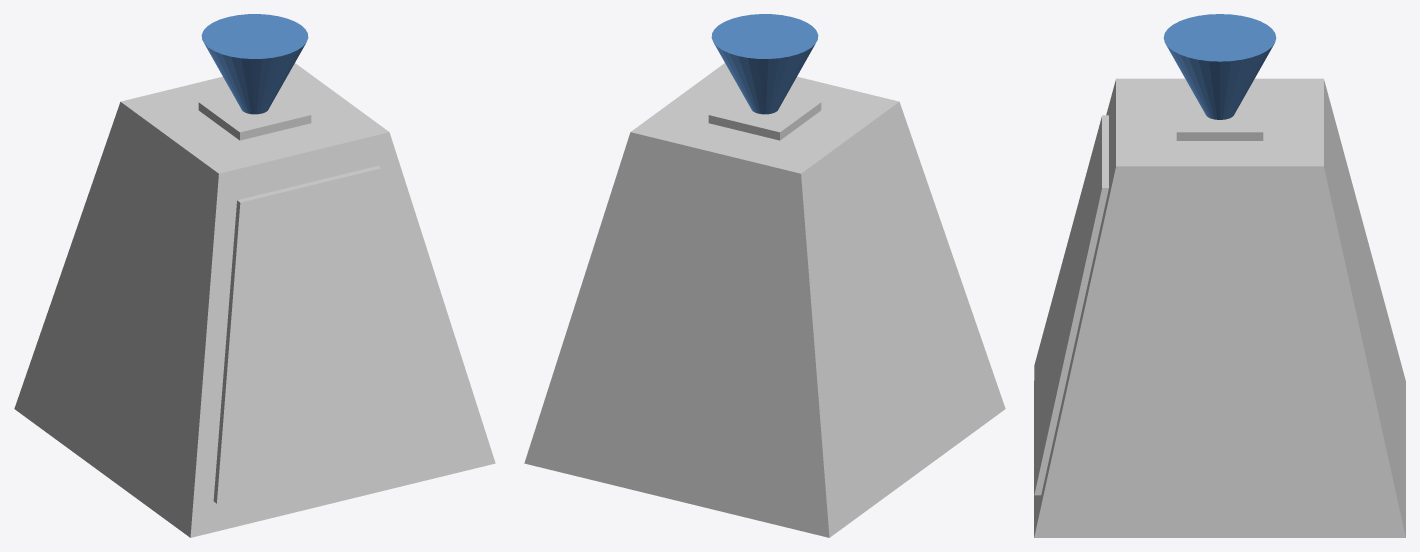
File: Generic torch grave.fbx
3 views of the same model, side by side, from view 1: azimuth 30°, elevation 25°; view 2: azimuth 150°, elevation 25°; view 3: azimuth 270°, elevation 25° (orthographic). The views are drawn at different scales.
Parts seen in each view (by area): view 1: Grave; view 2: Grave; view 3: Grave.
Part boxes in pixels (x1,y1,x2,y2): Grave: (14,14,495,537); Grave: (524,14,1005,537); Grave: (1034,14,1405,537).
Size of the model in its own units: 3.96 by 4.95 by 3.96.
